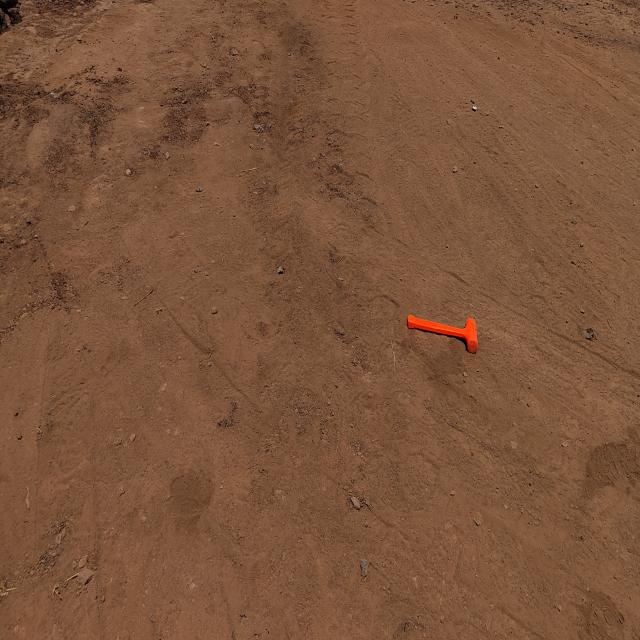Orange_hammer: (406, 313, 478, 354)
